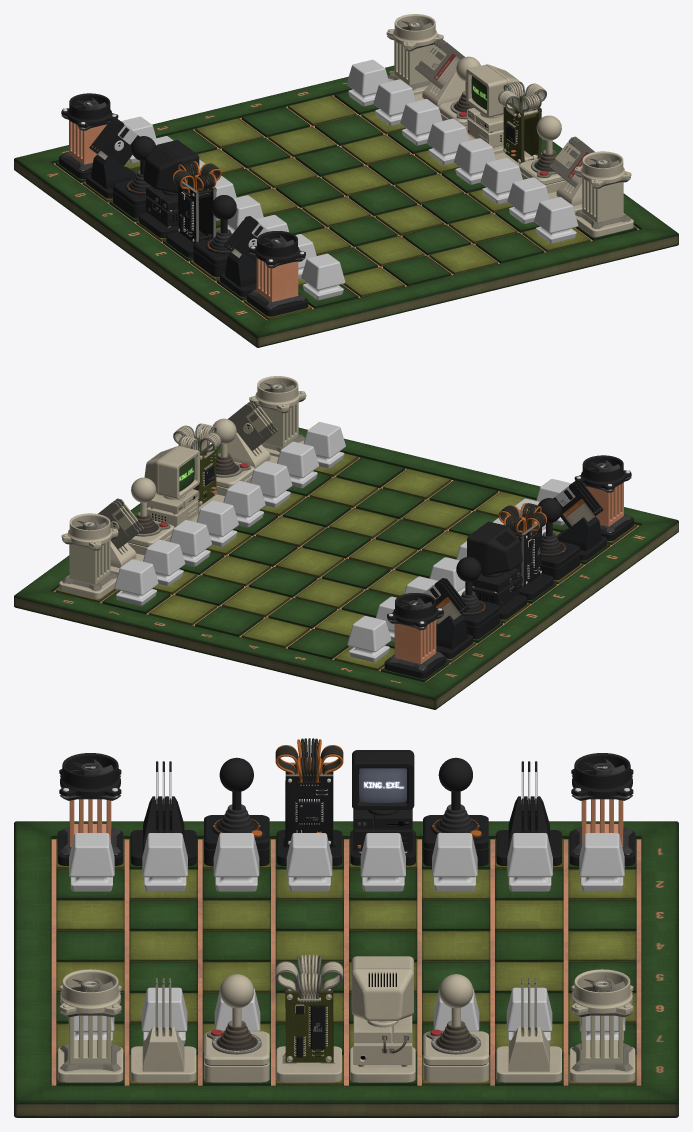
The model's file is RetroPc_Chess(b3_6).fbx.
3 views of the same model, one above another, from view 1: azimuth 30°, elevation 25°; view 2: azimuth 150°, elevation 25°; view 3: azimuth 270°, elevation 25° (orthographic). The views are drawn at different scales.
Visible parts, largest first — view 1: board, rook_b.001, rook_w.001, queen_b, king_b, queen_w, king_w, rook_b, rook_w, knight_b, knight_w, knight_b.001 (+16 smaller); view 2: board, king_b, rook_b, rook_w, king_w, rook_b.001, queen_b, rook_w.001, knight_b.001, knight_w.001, knight_b, queen_w (+16 smaller); view 3: board, king_w, queen_w, rook_w.001, rook_w, king_b, queen_b, bishop_w, bishop_w.001, rook_b, rook_b.001, knight_w.001 (+19 smaller).
Boxes of the visible parts, <box> form: board: <box>14,65,678,347</box>; rook_b.001: <box>246,231,308,316</box>; rook_w.001: <box>574,151,633,237</box>; queen_b: <box>166,161,221,257</box>; king_b: <box>139,140,199,238</box>; queen_w: <box>494,81,546,165</box>; king_w: <box>466,64,521,154</box>; rook_b: <box>59,93,118,179</box>; rook_w: <box>386,14,443,95</box>; knight_b: <box>86,117,139,198</box>; knight_w: <box>414,38,465,106</box>; knight_b.001: <box>220,216,269,296</box>; board: <box>14,427,678,709</box>; king_b: <box>467,521,526,619</box>; rook_b: <box>384,593,446,678</box>; rook_w: <box>59,513,118,599</box>; king_w: <box>144,446,199,527</box>; rook_b.001: <box>574,455,633,541</box>; queen_b: <box>498,503,553,599</box>; rook_w.001: <box>249,376,306,456</box>; knight_b.001: <box>553,479,606,560</box>; knight_w.001: <box>227,400,278,468</box>; knight_b: <box>423,578,472,658</box>; queen_w: <box>173,423,224,511</box>; board: <box>14,821,678,1117</box>; king_w: <box>350,956,415,1082</box>; queen_w: <box>275,954,343,1082</box>; rook_w.001: <box>57,969,123,1082</box>; rook_w: <box>569,969,635,1082</box>; king_b: <box>350,750,415,865</box>; queen_b: <box>275,738,343,865</box>; bishop_w: <box>423,974,488,1082</box>; bishop_w.001: <box>204,974,269,1082</box>; rook_b: <box>569,753,635,865</box>; rook_b.001: <box>57,753,123,865</box>; knight_w.001: <box>130,978,196,1082</box>.
Size of the model in its own units: 909 by 183 by 909.
